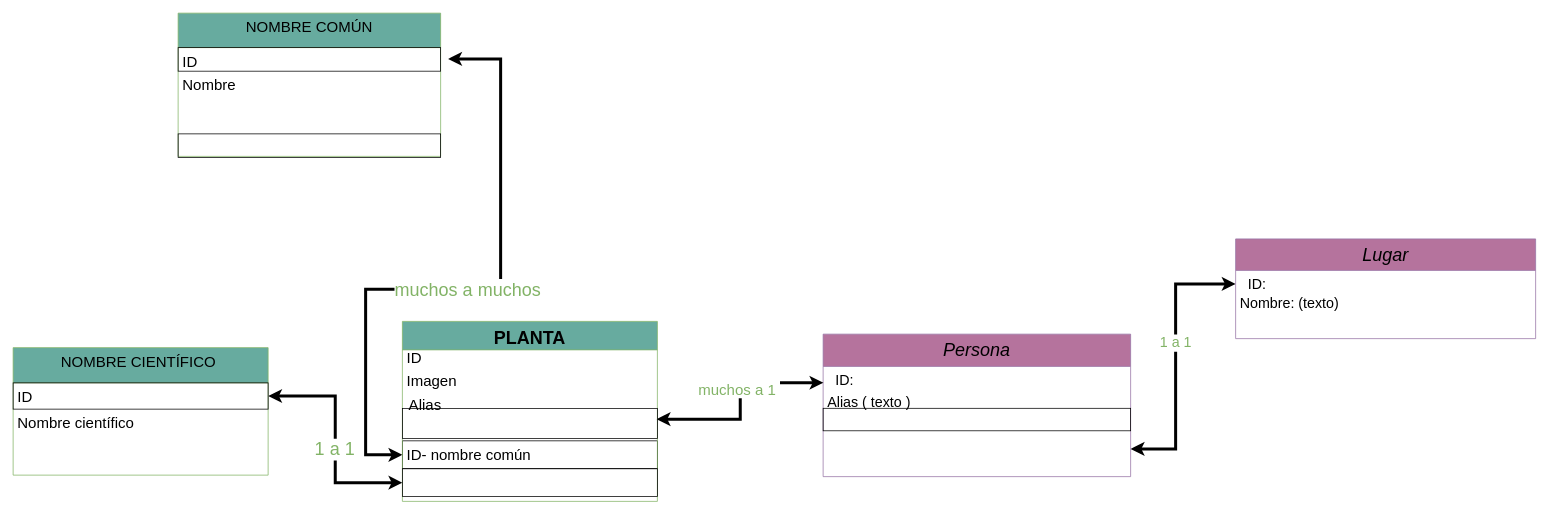
Some shapes in this 1549 by 515 pixel diagram are drawn without their labels. The centre of each missing label's shape, as x and y in pixels:
"ID- nombre científico" belongs at [529,482].
"ID- persona" belongs at [529,423].
"ID-lugares:" belongs at [976,419].
